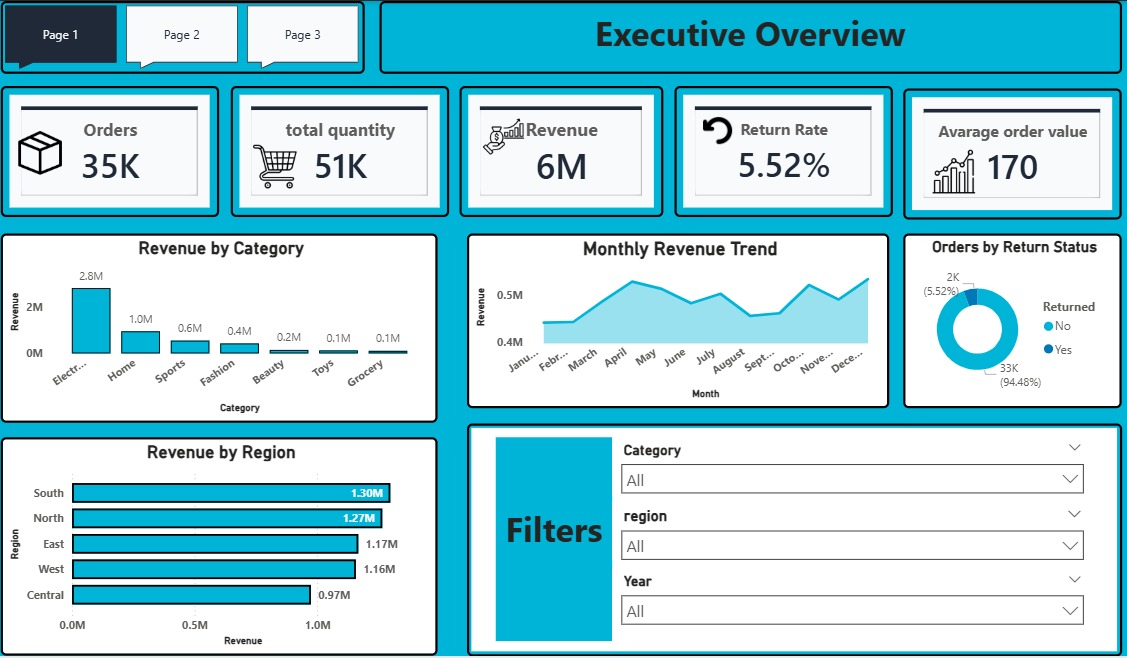

The page's visual inventory and layout, read from the dashboard file:
{"tool":"powerbi","page":{"name":"Page 1","canvas":[1280,720],"ordinal":0},"visuals":[{"type":"cardVisual","fields":{"Data":["Fact_Sales.total quantity"]},"box":[284,92.8,240,144],"z":0,"group":"g5"},{"type":"lineChart","title":"Monthly Revenue Trend","fields":{"Category":["Dim_Date.Date.Variation.Date Hierarchy.Month"],"Y":["Fact_Sales.total revenue"]},"box":[544,256,464,192],"z":0},{"type":"textbox","box":[576,480,128,224],"z":0,"group":"g7"},{"type":"shape","box":[544,464,720,256],"z":1000},{"type":"group","id":"g1","title":"Group 6","box":[704,480,528,224],"z":1000,"group":"g7"},{"type":"clusteredColumnChart","title":"Revenue by Category","fields":{"Category":["Dim_Product.Category"],"Y":["Fact_Sales.total revenue"]},"box":[32,256,480,208],"z":2000},{"type":"donutChart","title":"Orders by Return Status","fields":{"Y":["Fact_Sales.total order"],"Category":["Fact_Sales.Returned"]},"box":[1024,256,240,192],"z":3000},{"type":"clusteredBarChart","title":" Revenue by Region","fields":{"Category":["Dim_customer.Region"],"Y":["Fact_Sales.total revenue"]},"box":[32,480,480,240],"z":4000},{"type":"textbox","box":[448,0,816,80],"z":5000},{"type":"slicer","title":"filter by year","fields":{"Values":["Dim_Date.Date.Variation.Date Hierarchy.Year"]},"box":[704,624,528,80],"z":5000,"group":"g1"},{"type":"pageNavigator","box":[32,0,400,80],"z":6000},{"type":"slicer","title":"filter by category","fields":{"Values":["Dim_Product.Category"]},"box":[704,480,528,64],"z":6000,"group":"g1"},{"type":"group","id":"g2","title":"Group 1","box":[536,92.8,224,144],"z":7000},{"type":"slicer","title":"filter by region","fields":{"Values":["Dim_customer.Region"]},"box":[704,552,528,64],"z":7000,"group":"g1"},{"type":"group","id":"g3","title":"Group 2","box":[772,92.8,240,144],"z":8000},{"type":"cardVisual","fields":{"Data":["Fact_Sales.total revenue"]},"box":[536,92.8,224,144],"z":9000,"group":"g2"},{"type":"group","id":"g4","title":"Group 3","box":[1024,96,240,144],"z":9000},{"type":"group","id":"g5","title":"Group 5","box":[284,92.8,240,144],"z":10000},{"type":"cardVisual","fields":{"Data":["Fact_Sales.Return Rate"]},"box":[772,92.8,240,144],"z":10000,"group":"g3"},{"type":"group","id":"g6","title":"Group 9","box":[32,92.8,240,144],"z":11000},{"type":"cardVisual","fields":{"Data":["Fact_Sales.Avarage order value"]},"box":[1024,96,240,144],"z":11000,"group":"g4"},{"type":"cardVisual","fields":{"Data":["Fact_Sales.total order"]},"box":[32,92.8,240,144],"z":12000,"group":"g8"},{"type":"group","id":"g7","title":"Group 7","box":[576,480,656,224],"z":12000},{"type":"group","id":"g8","title":"Group 4","box":[32,92.8,240,144],"z":13000,"group":"g6"},{"type":"image","box":[1056,163.2,48,48],"z":14000,"group":"g4"},{"type":"image","box":[51.5,141.6,48,48],"z":14005,"group":"g6"},{"type":"image","box":[795.5,126.1,48,32],"z":15000,"group":"g3"},{"type":"image","box":[552,124.8,64,48],"z":16000,"group":"g2"},{"type":"image","box":[300,156.8,64,48],"z":17005,"group":"g5"}]}

Visuals, with their boxes on the page's 1280x720 design canvas (x1, y1, x2, y2). These are canvas units, not pixel positions in the 1127x658 screenshot, which may show the page scaled, cropped or inside an application window:
cardVisual - Fact_Sales.total quantity: crop(284, 93, 524, 237)
"Monthly Revenue Trend" lineChart: crop(544, 256, 1008, 448)
textbox: crop(576, 480, 704, 704)
shape: crop(544, 464, 1264, 720)
"Group 6" group: crop(704, 480, 1232, 704)
"Revenue by Category" clusteredColumnChart: crop(32, 256, 512, 464)
"Orders by Return Status" donutChart: crop(1024, 256, 1264, 448)
" Revenue by Region" clusteredBarChart: crop(32, 480, 512, 720)
textbox: crop(448, 0, 1264, 80)
"filter by year" slicer: crop(704, 624, 1232, 704)
pageNavigator: crop(32, 0, 432, 80)
"filter by category" slicer: crop(704, 480, 1232, 544)
"Group 1" group: crop(536, 93, 760, 237)
"filter by region" slicer: crop(704, 552, 1232, 616)
"Group 2" group: crop(772, 93, 1012, 237)
cardVisual - Fact_Sales.total revenue: crop(536, 93, 760, 237)
"Group 3" group: crop(1024, 96, 1264, 240)
"Group 5" group: crop(284, 93, 524, 237)
cardVisual - Fact_Sales.Return Rate: crop(772, 93, 1012, 237)
"Group 9" group: crop(32, 93, 272, 237)
cardVisual - Fact_Sales.Avarage order value: crop(1024, 96, 1264, 240)
cardVisual - Fact_Sales.total order: crop(32, 93, 272, 237)
"Group 7" group: crop(576, 480, 1232, 704)
"Group 4" group: crop(32, 93, 272, 237)
image: crop(1056, 163, 1104, 211)
image: crop(52, 142, 100, 190)
image: crop(796, 126, 844, 158)
image: crop(552, 125, 616, 173)
image: crop(300, 157, 364, 205)
